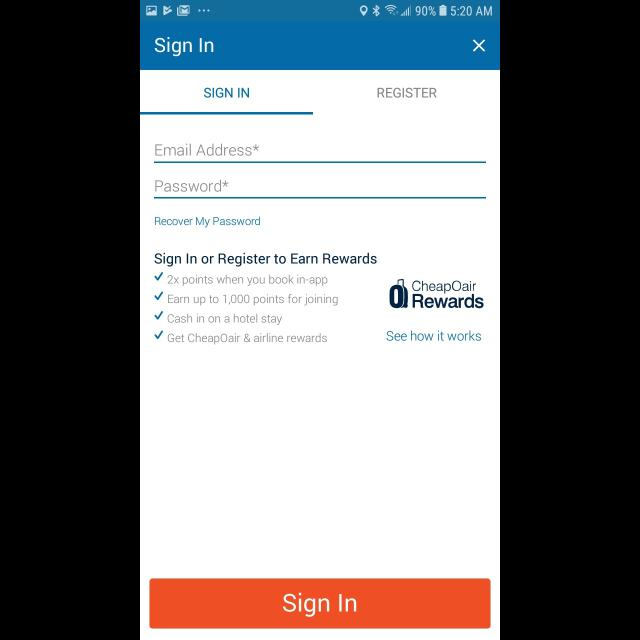icon: (472, 40, 486, 52), (154, 292, 164, 300), (156, 330, 164, 340), (156, 312, 164, 321), (156, 272, 164, 280)
image: (389, 279, 408, 309)
input: (154, 180, 486, 200), (154, 144, 486, 164)
text: (155, 253, 377, 267), (168, 294, 338, 306), (412, 281, 484, 309), (168, 274, 328, 286), (168, 333, 328, 345), (168, 313, 284, 325), (156, 144, 260, 156), (156, 216, 260, 228), (154, 37, 213, 57), (386, 331, 482, 342), (378, 88, 437, 99), (204, 88, 250, 99)
textbutton: (150, 579, 490, 629)
uppertaskbar: (140, 1, 500, 22)
